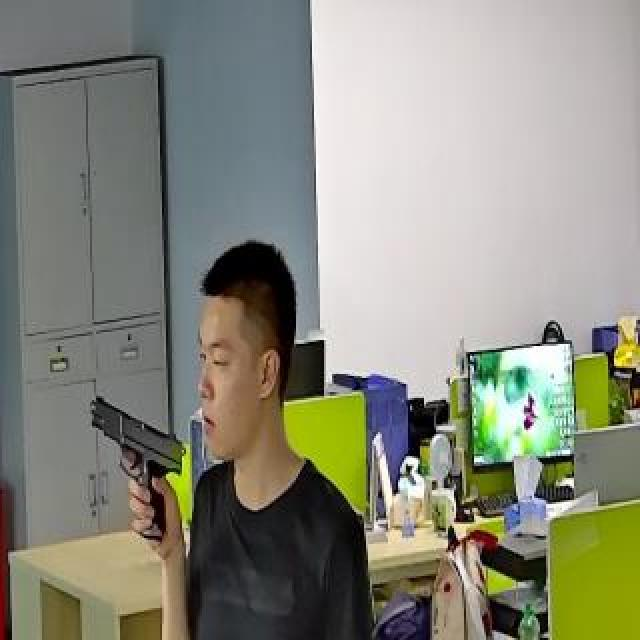Guns: (57, 377, 190, 525)
